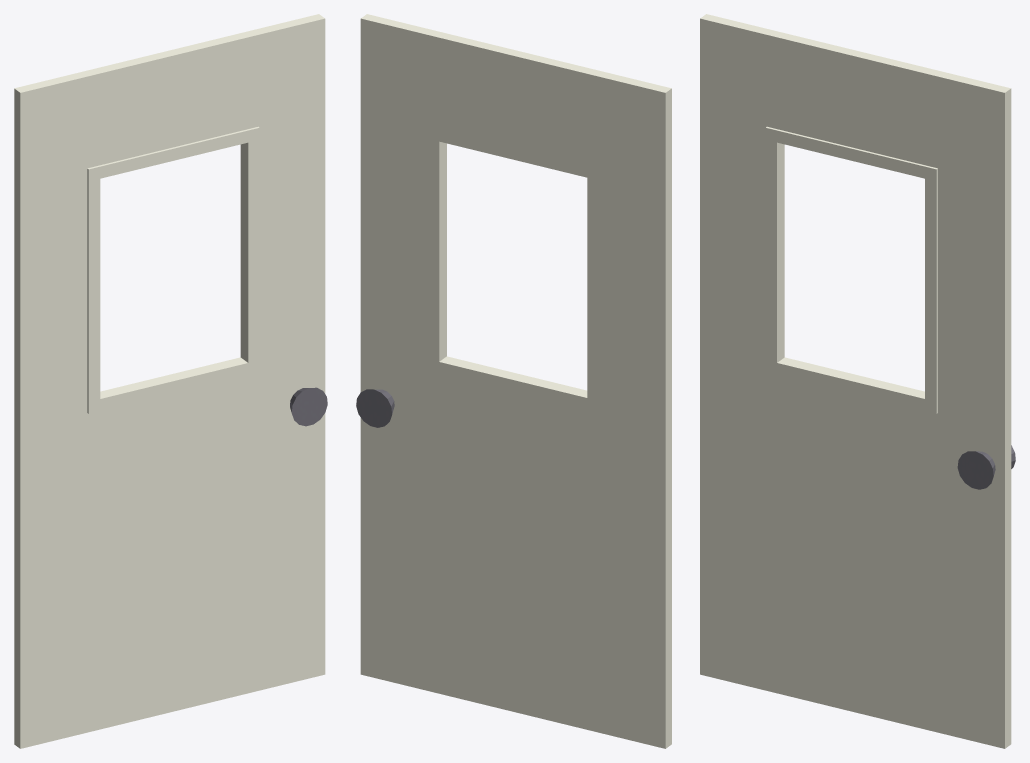
Rendered from door1.fbx.
3 renders of one model, left to right at view 1: azimuth 30°, elevation 25°; view 2: azimuth 150°, elevation 25°; view 3: azimuth 330°, elevation 25°, orthographic.
Visible parts, largest first — view 1: Cube; view 2: Cube; view 3: Cube.
Part boxes in pixels (x1,y1,x2,y2): Cube: (14,14,327,748); Cube: (356,14,671,748); Cube: (700,14,1015,748).
Size of the model in its own units: 200 by 411 by 25.2.
1 material, 1 textured.
